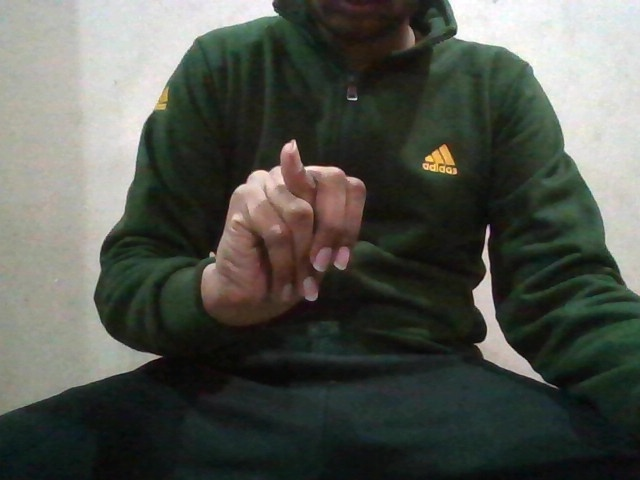N: (203, 140, 366, 319)
